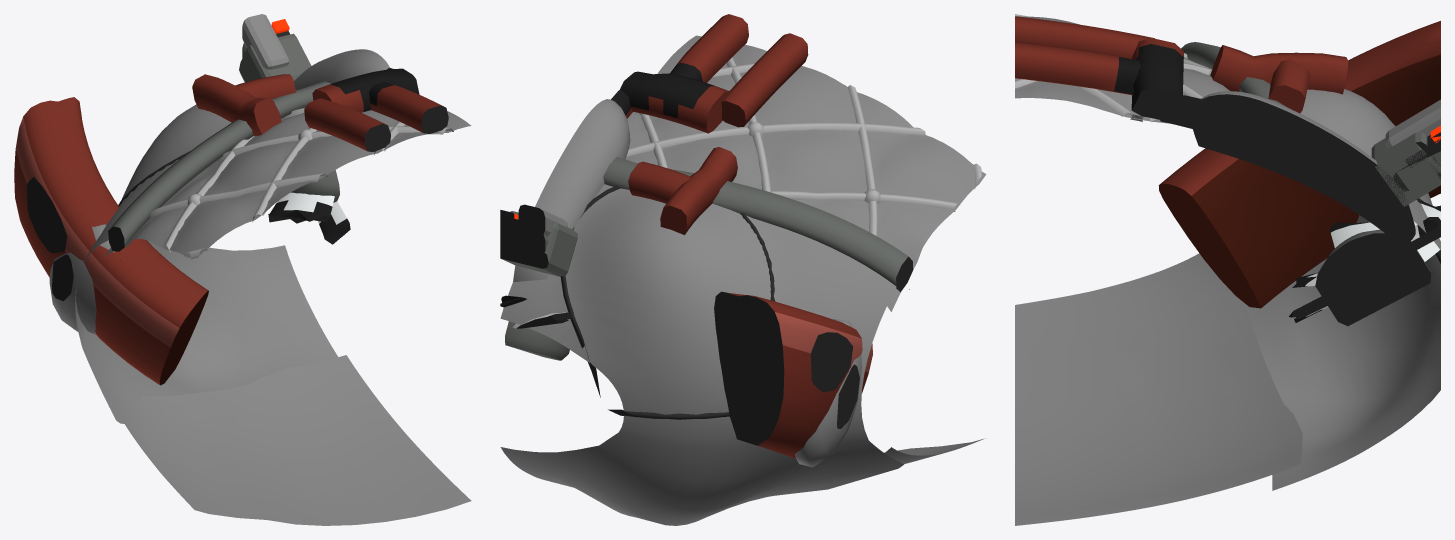
The model's file is zeppelin_49.glb.
3 renders of one model, left to right at view 1: azimuth 30°, elevation 25°; view 2: azimuth 150°, elevation 25°; view 3: azimuth 270°, elevation 25°, orthographic. The views are drawn at different scales.
Visible parts, largest first — view 1: envelope.001, duct.001, cowl.001, cowl_rim.001, net_ropes.001, duct_boot_l.001, bracket_l.001, gate_leg_out_l.001, gate_leg_in_l.001, gate_bar.001, hub_fairing.001, bridge_foot.001 (+5 smaller); view 2: cowl.001, envelope.001, duct.001, cowl_rim.001, hub_fairing.001, net_ropes.001, gate_bar.001, gate_leg_out_l.001, bracket_l.001, duct_boot_l.001, gate_leg_in_l.001, bridge_foot.001 (+5 smaller); view 3: envelope.001, cowl.001, duct.001, hub_fairing.001, fan_hub.001, gate_leg_in_l.001, bracket_l.001, gate_bar.001, gate_leg_out_l.001, bridge_foot.001, gate_stem.001, cowl_rim.001 (+8 smaller).
Part boxes in pixels (box(x1,y1,x2,y2)): envelope.001: box(104, 110, 471, 525); duct.001: box(14, 97, 208, 385); cowl.001: box(75, 104, 337, 423); cowl_rim.001: box(108, 81, 330, 251); net_ropes.001: box(149, 107, 453, 259); duct_boot_l.001: box(49, 224, 114, 334); bracket_l.001: box(192, 74, 281, 135); gate_leg_out_l.001: box(304, 98, 390, 151); gate_leg_in_l.001: box(369, 82, 448, 134); gate_bar.001: box(312, 68, 419, 112); hub_fairing.001: box(294, 49, 389, 90); bridge_foot.001: box(239, 33, 311, 82); cowl.001: box(500, 184, 903, 525); envelope.001: box(625, 35, 986, 463); duct.001: box(714, 291, 872, 458); cowl_rim.001: box(603, 156, 913, 292); hub_fairing.001: box(513, 99, 630, 281); net_ropes.001: box(626, 57, 982, 235); gate_bar.001: box(620, 71, 729, 133); gate_leg_out_l.001: box(721, 33, 808, 127); bracket_l.001: box(660, 147, 737, 235); duct_boot_l.001: box(795, 319, 862, 467); gate_leg_in_l.001: box(670, 14, 748, 82); bridge_foot.001: box(500, 211, 577, 276); envelope.001: box(1015, 16, 1302, 525); cowl.001: box(1232, 89, 1440, 490); duct.001: box(1158, 21, 1440, 308); hub_fairing.001: box(1191, 91, 1415, 248); fan_hub.001: box(1315, 229, 1431, 326); gate_leg_in_l.001: box(1015, 42, 1141, 95); bracket_l.001: box(1210, 45, 1348, 94); gate_bar.001: box(1131, 38, 1183, 120); gate_leg_out_l.001: box(1015, 16, 1154, 58); bridge_foot.001: box(1371, 132, 1440, 207); gate_stem.001: box(1160, 95, 1236, 137); cowl_rim.001: box(1181, 42, 1290, 155).
Size of the model in its own units: 24 by 33.56 by 28.
